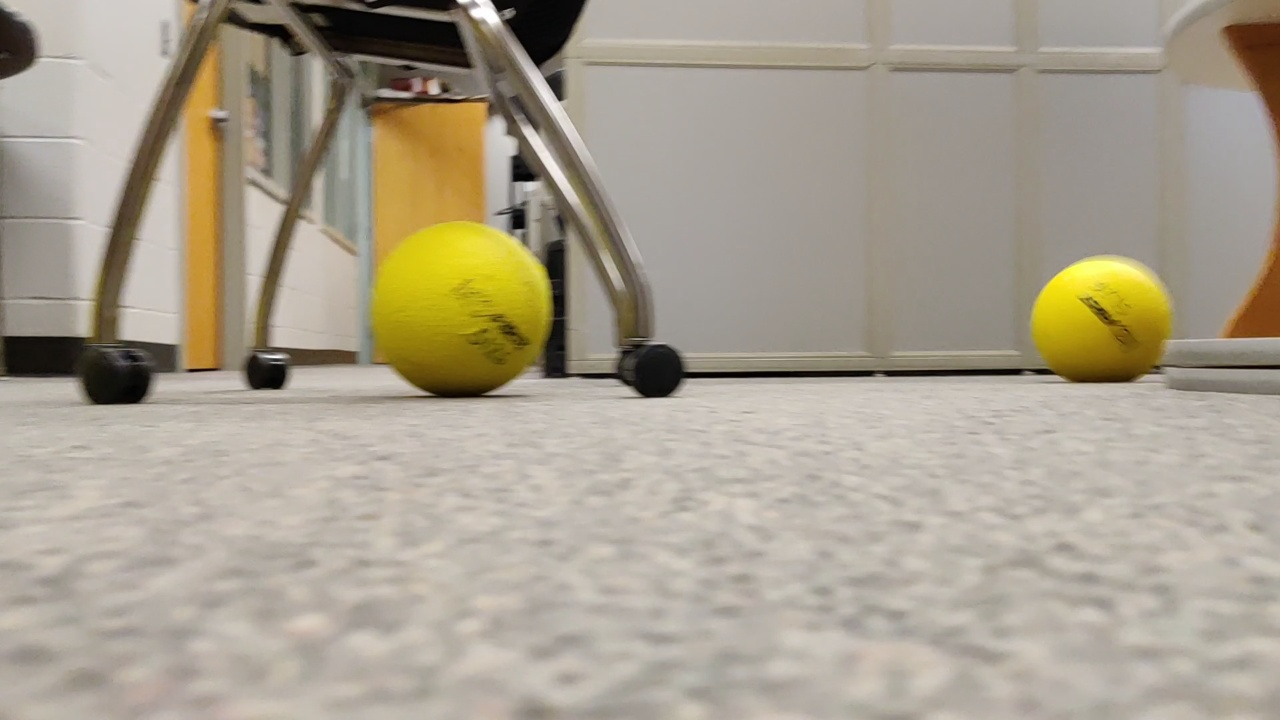Ball: (374, 220, 558, 398), (1030, 255, 1184, 381)
